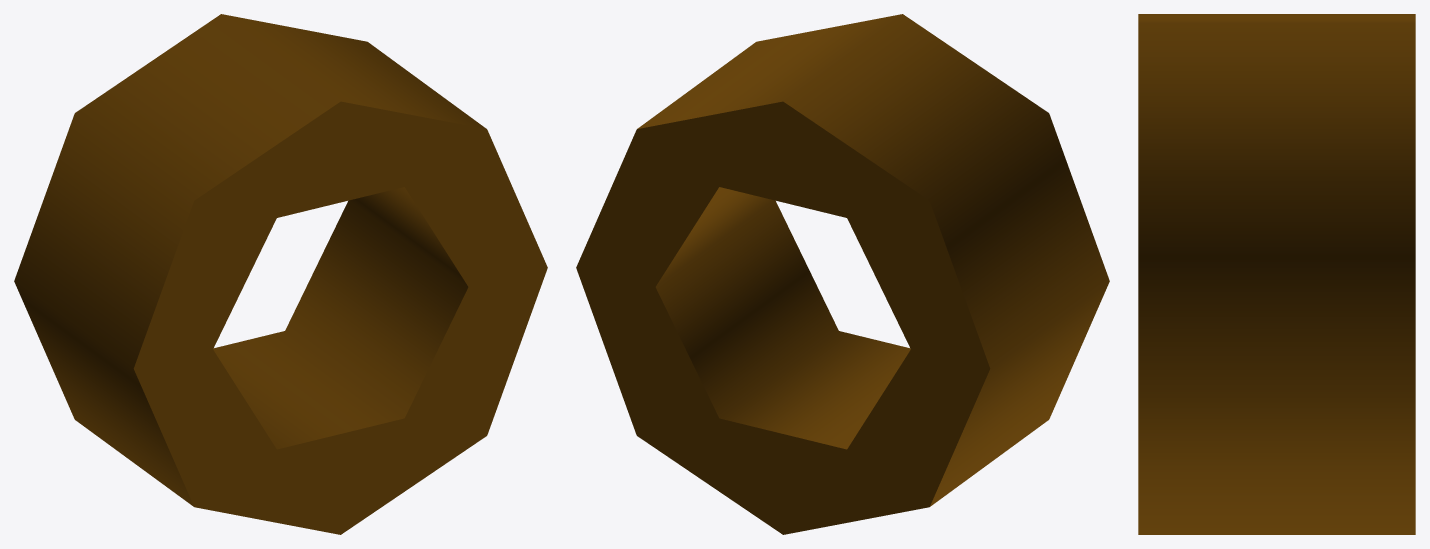
The model's file is Pallier barillet avant (12_7.5).obj.
3 renders of one model, left to right at view 1: azimuth 30°, elevation 25°; view 2: azimuth 150°, elevation 25°; view 3: azimuth 270°, elevation 25°, orthographic. The views are drawn at different scales.
Visible parts, largest first — view 1: Face_1, Face_3, Face_4; view 2: Face_2, Face_3, Face_4; view 3: Face_3.
Part boxes in pixels (x1,y1,x2,y2): Face_1: (133,101,547,534); Face_3: (14,14,486,506); Face_4: (213,187,468,449); Face_2: (576,101,990,534); Face_3: (637,14,1109,506); Face_4: (655,187,910,449); Face_3: (1138,14,1415,534).
Size of the model in its own units: 0.012 by 0.012 by 0.006.
